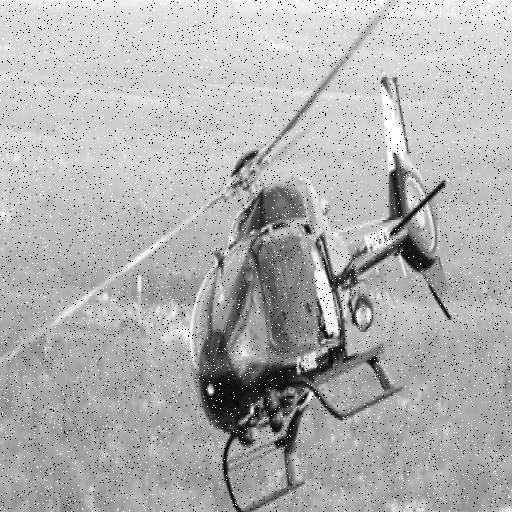helicopter: (3, 1, 488, 509)
